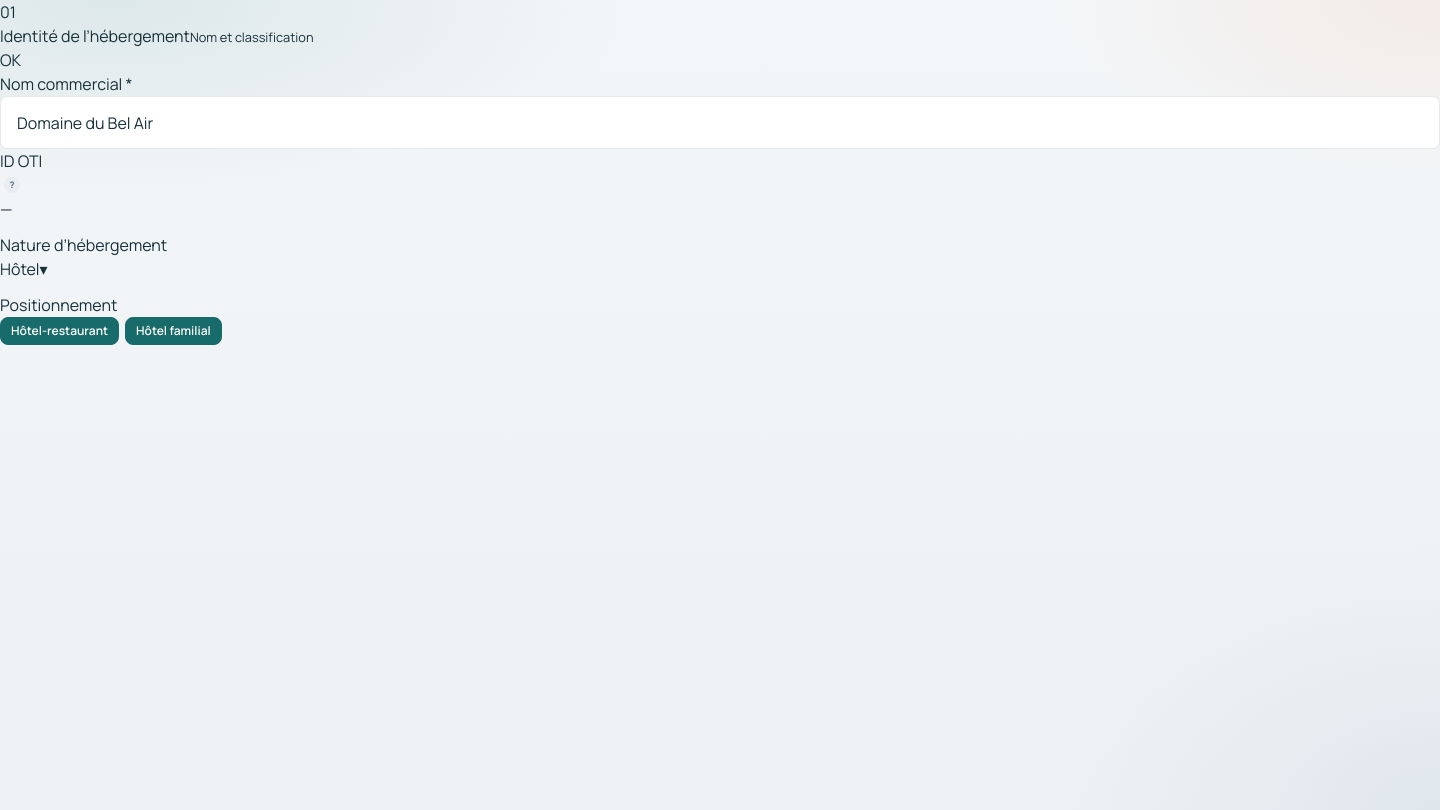
Test: SectionIdentity › titles the redesigned modal "Choisir la nature d’hébergement"
Click the button with aria-label "Modifier la nature d’hébergement (actuelle : Hôtel)": point(24, 269) 0,257 -> 48,281
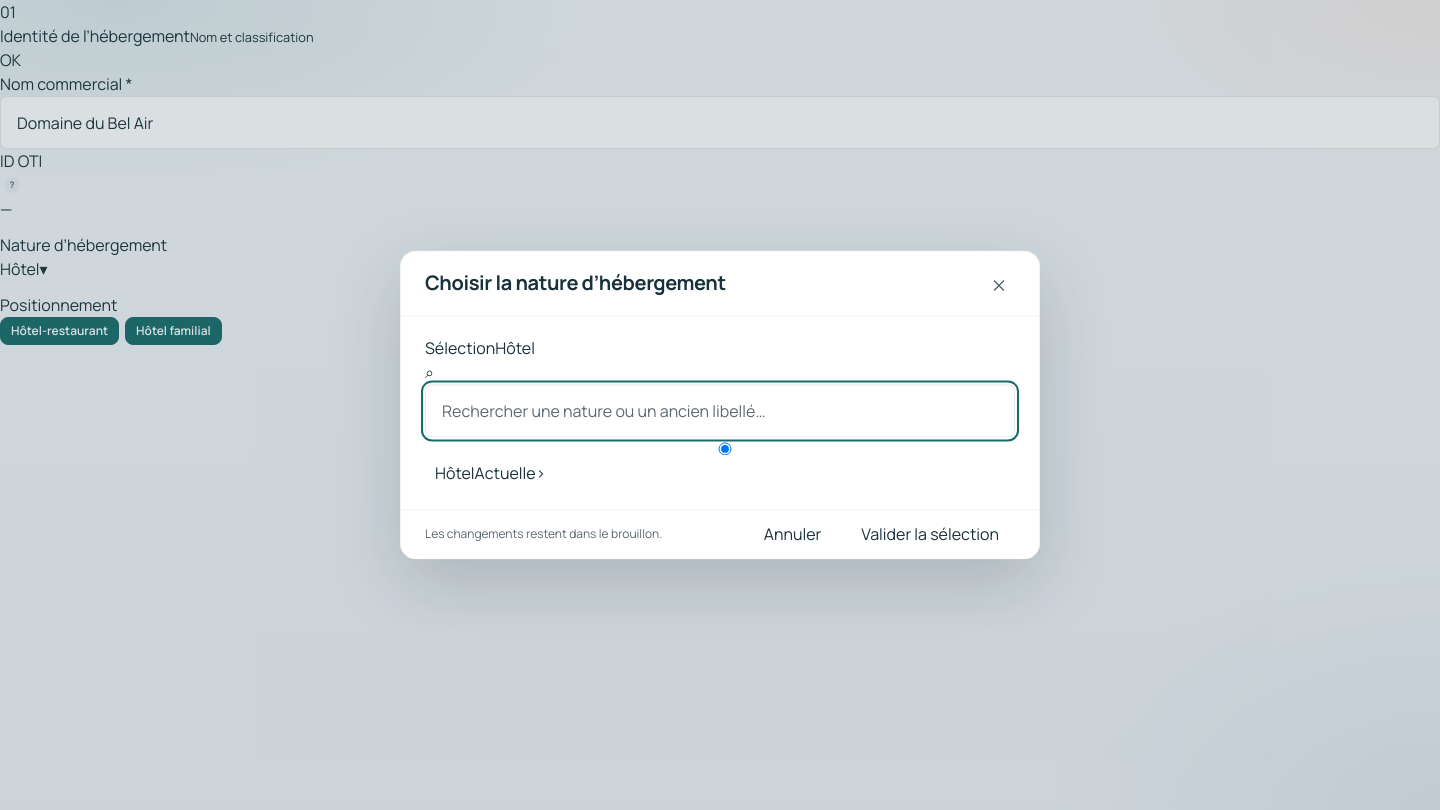
Now the heading "Choisir la nature d’hébergement" is shown, box 425,269 -> 726,297
